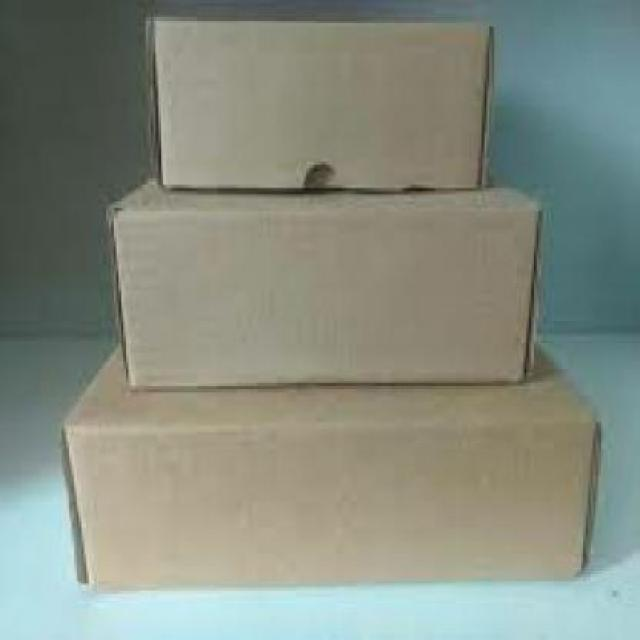-: (64, 345, 599, 580), (106, 184, 541, 387), (144, 15, 497, 191)
